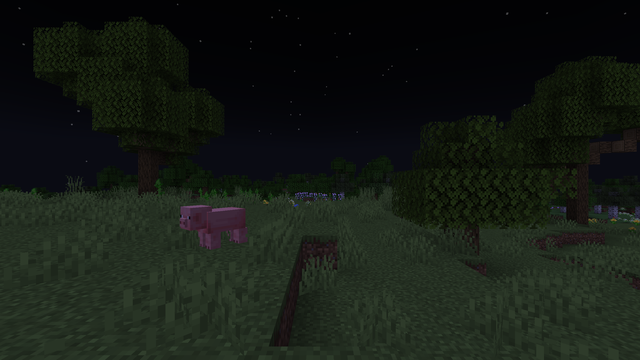cochons: (194, 206, 243, 248)
